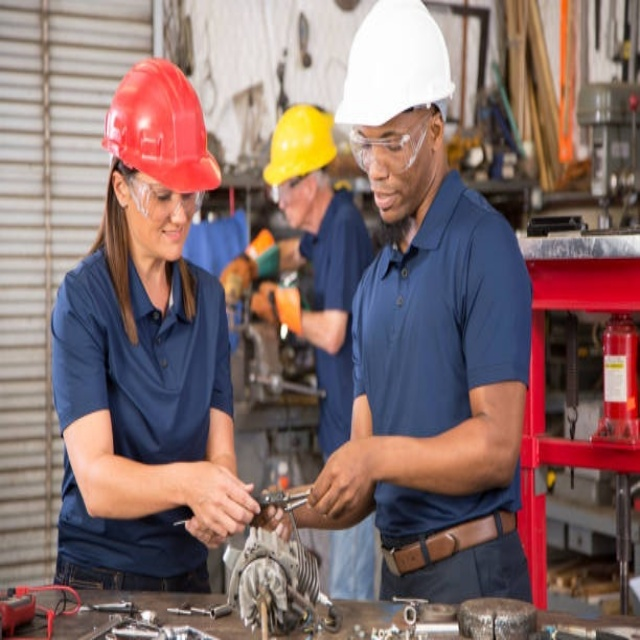Gafas: (347, 110, 435, 176), (125, 169, 207, 224), (270, 168, 310, 204)
Sin_guantes: (183, 455, 260, 557), (310, 433, 375, 522)
Sin_mascara: (367, 177, 410, 223), (151, 227, 188, 259)
